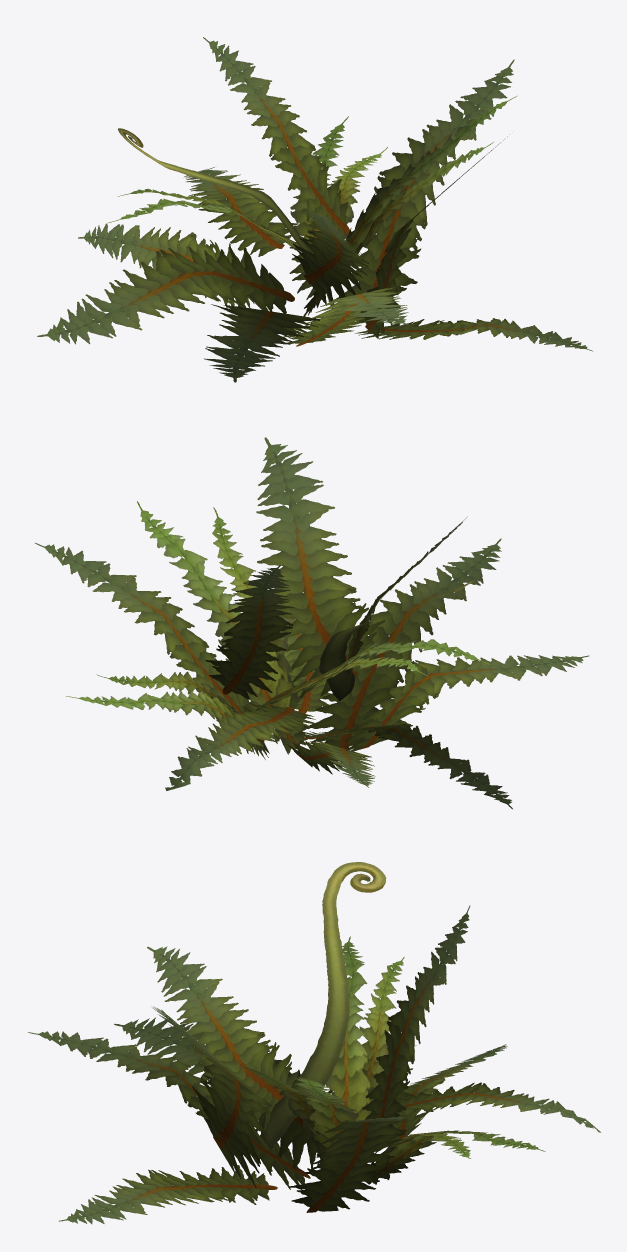
The model's file is fern_003.fbx.
3 renders of one model, top to bottom at view 1: azimuth 30°, elevation 25°; view 2: azimuth 150°, elevation 25°; view 3: azimuth 270°, elevation 25°, orthographic. The views are drawn at different scales.
Visible parts, largest first — view 1: fern_003; view 2: fern_003; view 3: fern_003.
Part boxes in pixels (box(x1,y1,x2,y2)): fern_003: box(37, 37, 592, 382); fern_003: box(35, 437, 589, 809); fern_003: box(28, 862, 600, 1224).
Bounding box in the file's own units: 12739 × 6606 × 12610.
